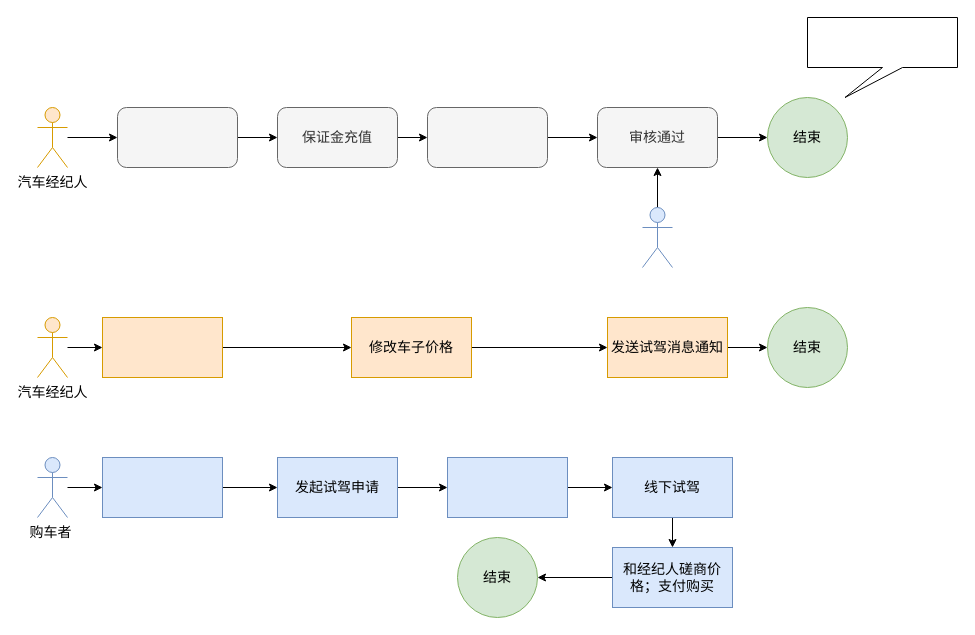
Some shapes in this 975 by 635 pixel diagram are drawn without their labels. Each missing label, with the box of its shape:
实名认证: (116, 106, 238, 168)
搜索汽车: (102, 456, 222, 518)
查看用户申请: (102, 316, 222, 378)
查看预约受理i情况和个人消息: (446, 456, 568, 518)
管理员: (642, 206, 672, 268)
经纪人可以登录后台: (806, 16, 958, 98)
选择关联汽车: (426, 106, 548, 168)
